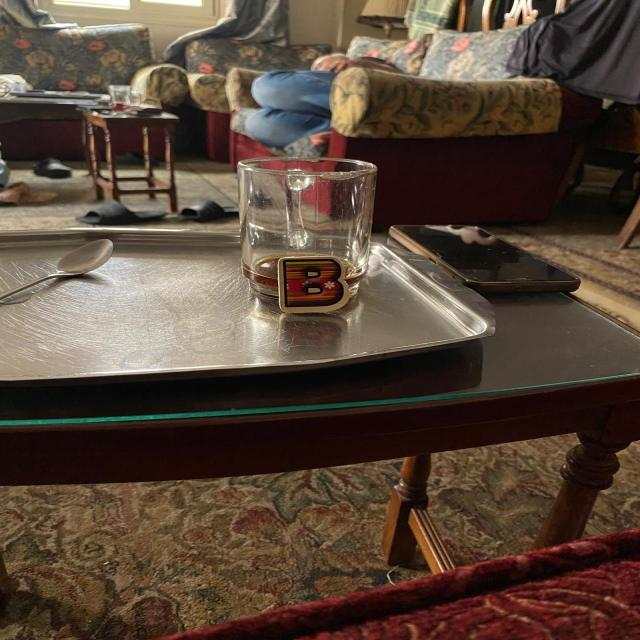B: (279, 256, 349, 312)
